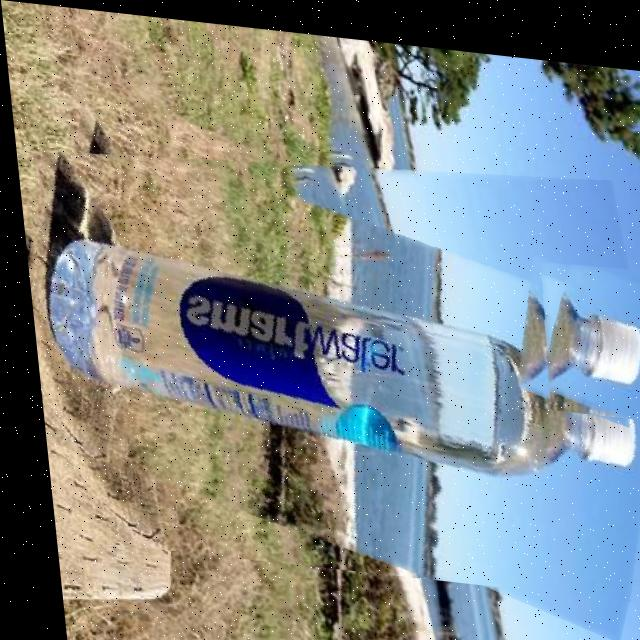litter: (9, 114, 640, 594), (529, 245, 640, 409)
